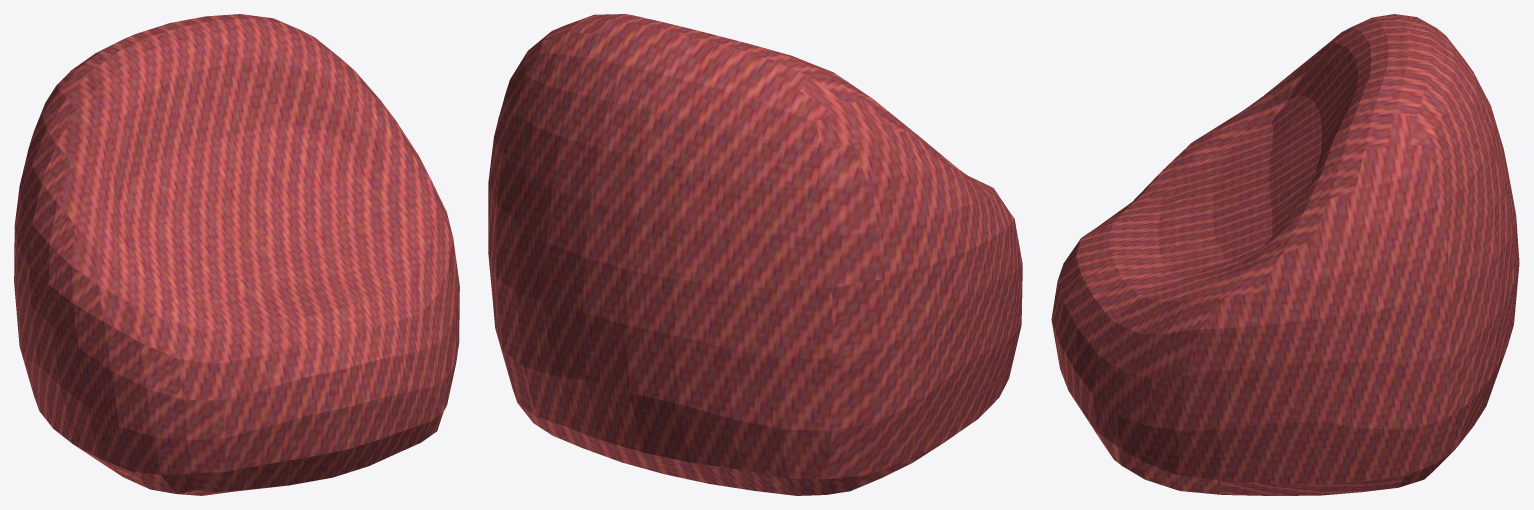
File: SoftChair.fbx
3 renders of one model, left to right at view 1: azimuth 30°, elevation 25°; view 2: azimuth 150°, elevation 25°; view 3: azimuth 270°, elevation 25°, orthographic. The views are drawn at different scales.
Visible parts, largest first — view 1: SoftChairBaked; view 2: SoftChairBaked; view 3: SoftChairBaked.
Boxes of the visible parts, <box> form: SoftChairBaked: <box>14,14,459,495</box>; SoftChairBaked: <box>488,14,1022,495</box>; SoftChairBaked: <box>1051,14,1519,495</box>.
Size of the model in its own units: 166 by 146 by 165.
